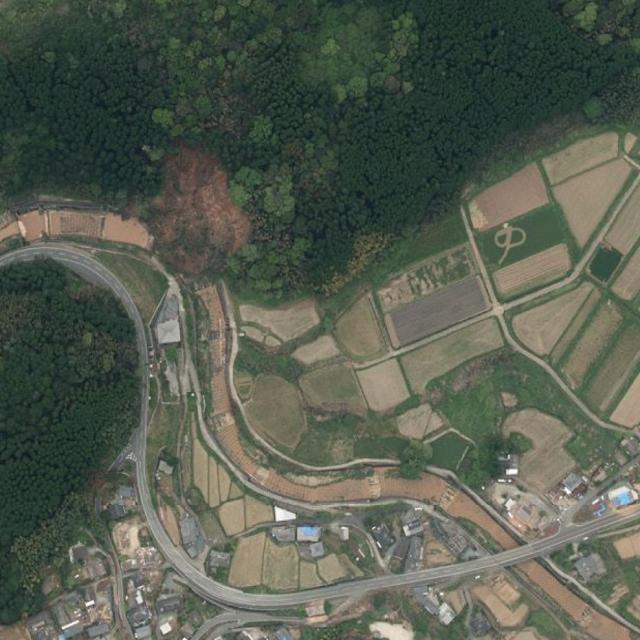landslide: (147, 145, 250, 276)
